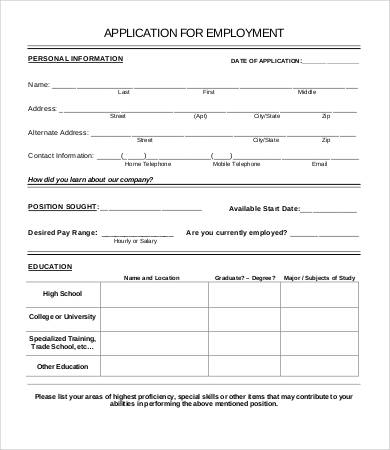table: (28, 49, 361, 183), (25, 281, 361, 377), (28, 188, 360, 250)
